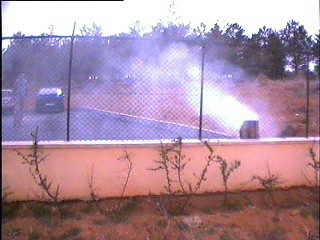smoke: (120, 29, 277, 141)
